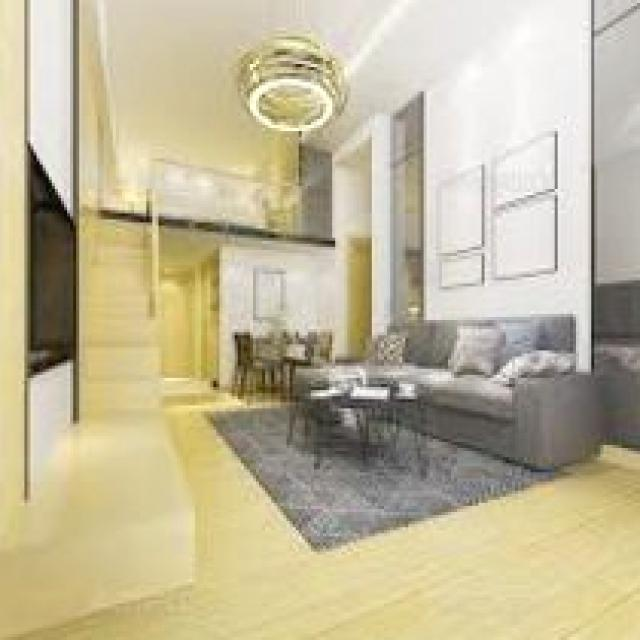upstair: (68, 269, 187, 434)
